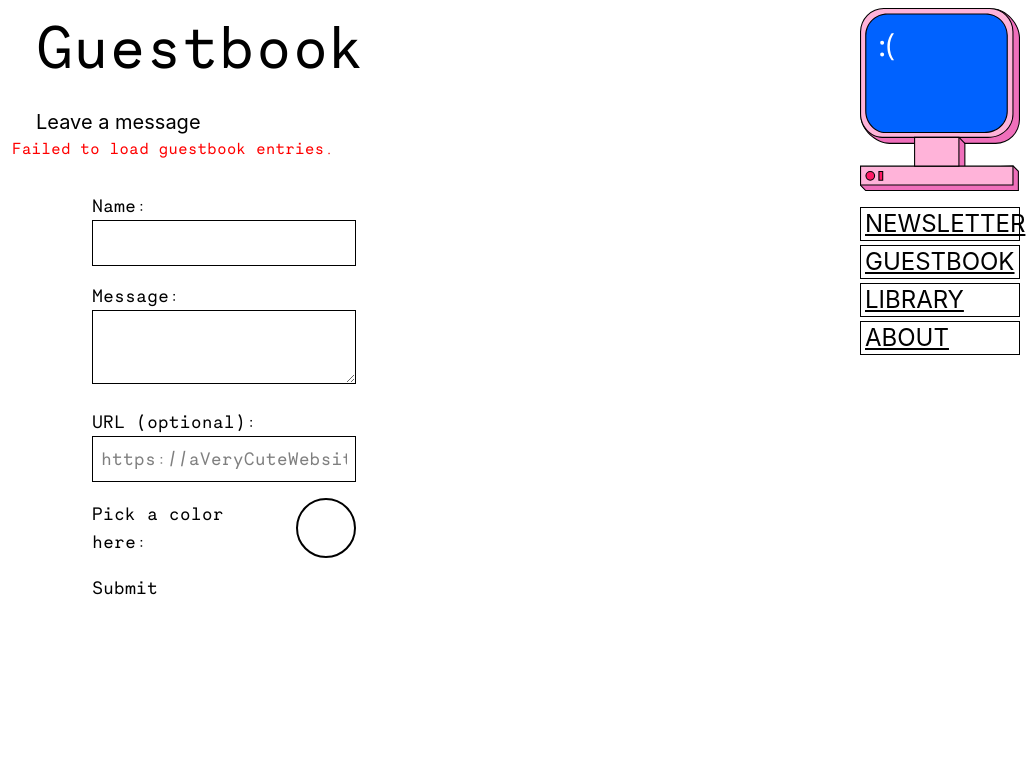
Test: Guestbook page › shows validation error and blocks submit when color is white
The image size is (1036, 768).
Check: the heading "Leave a message" is shown, box [36, 110, 200, 134]
Type "Nynne" into the field labelled "Name:" at (224, 243), box [92, 220, 356, 266]
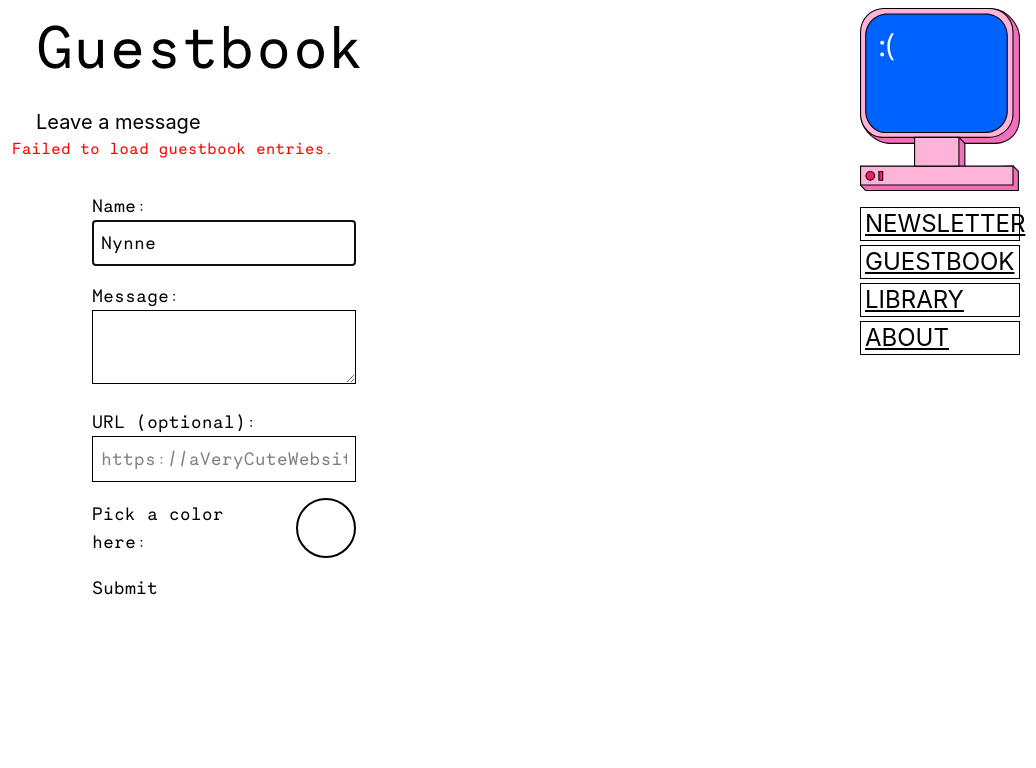
Type "Hej" into the text box labelled "Message:" at (224, 347), box [92, 310, 356, 384]
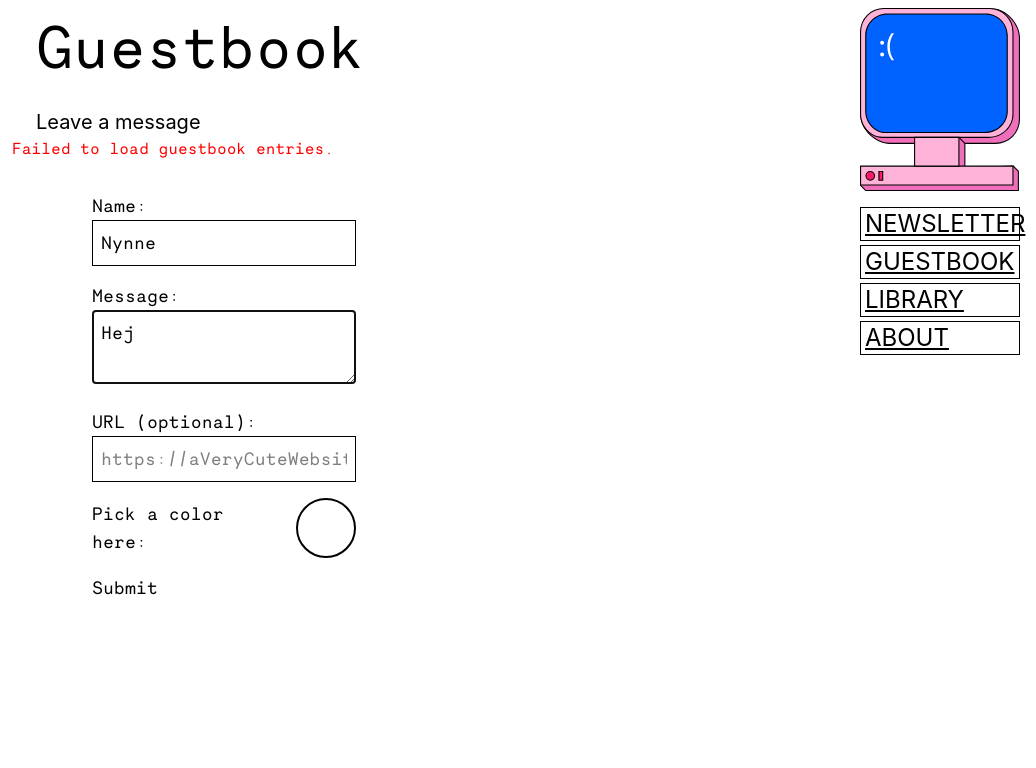
Click the button "Submit" at (125, 588), box [92, 574, 158, 602]
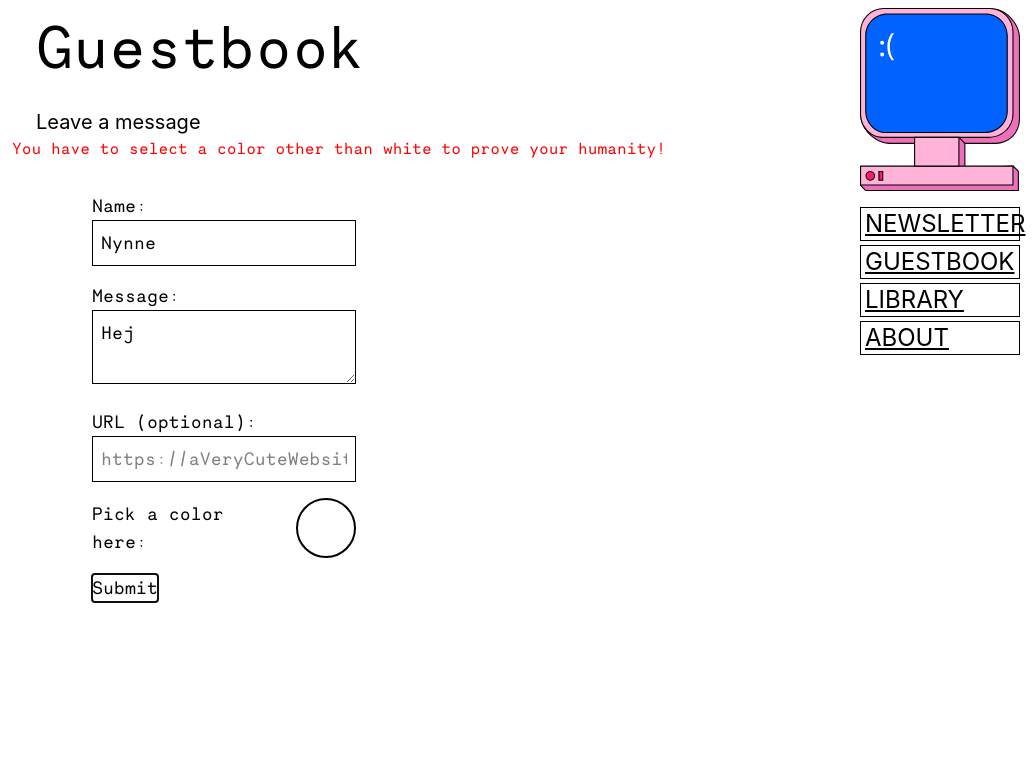
Check: the text "You have to select a color other than white to prove your humanity!" is shown, box [12, 136, 699, 160]
